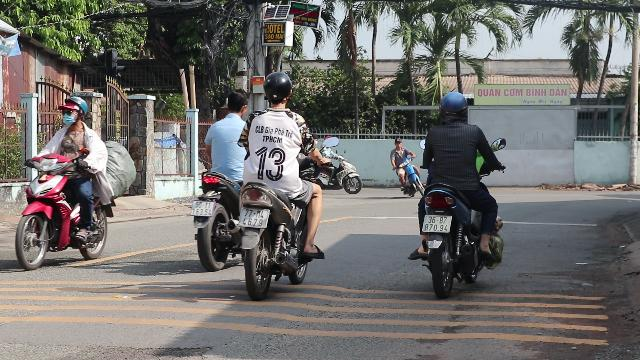helmet: (262, 71, 294, 109), (438, 90, 468, 122), (59, 96, 87, 127)
licenseplate: (422, 214, 452, 232), (240, 209, 268, 227), (192, 201, 214, 215)
motorcyclist: (236, 66, 328, 294), (13, 94, 131, 270), (406, 89, 506, 289), (189, 87, 251, 269)
nohelmet: (224, 89, 248, 117)
